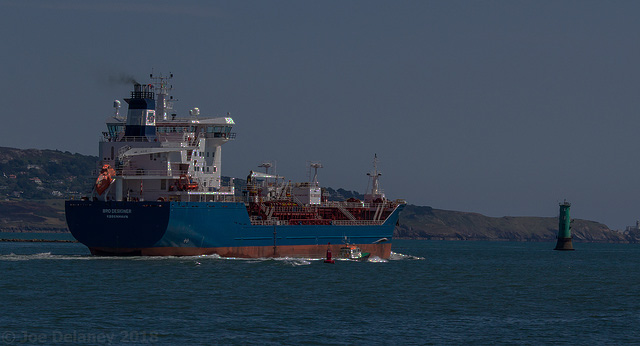boat: (334, 238, 370, 260)
tanker: (65, 74, 406, 264)
